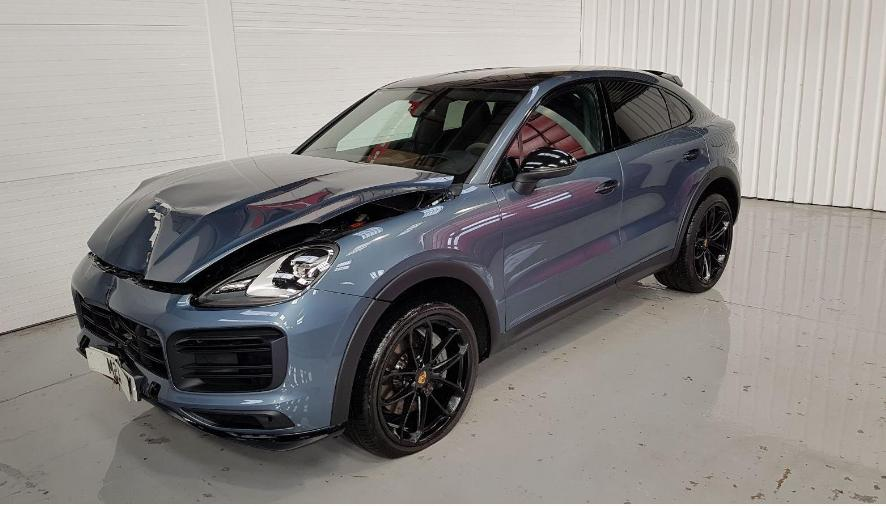Broken part: (82, 150, 468, 297), (72, 295, 173, 389), (77, 332, 150, 399)
Dent: (124, 179, 298, 279), (71, 259, 185, 339)
Paint chip: (148, 221, 160, 248), (155, 198, 173, 213), (148, 209, 163, 220), (145, 252, 152, 266)
